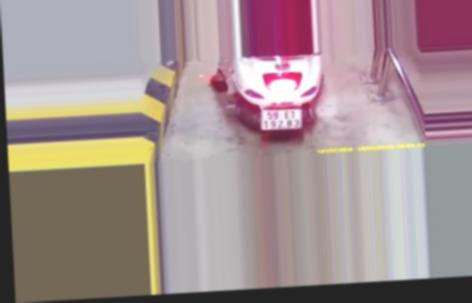License_Plate: (258, 102, 306, 134)
